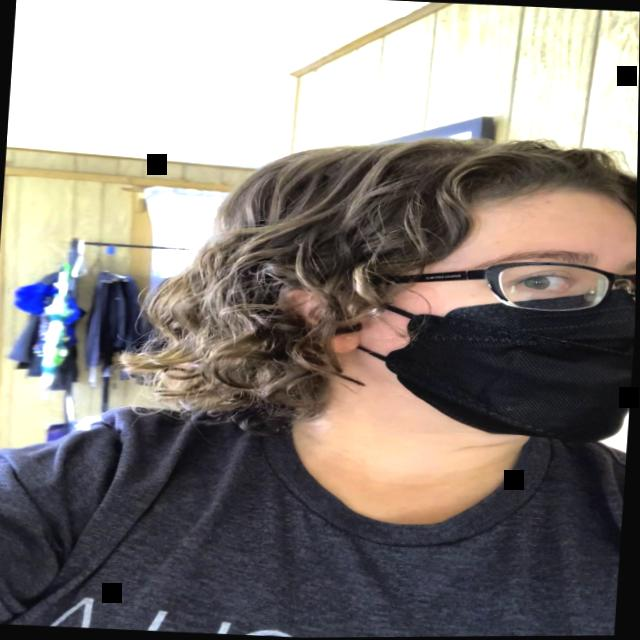Mask: (330, 169, 638, 448)
